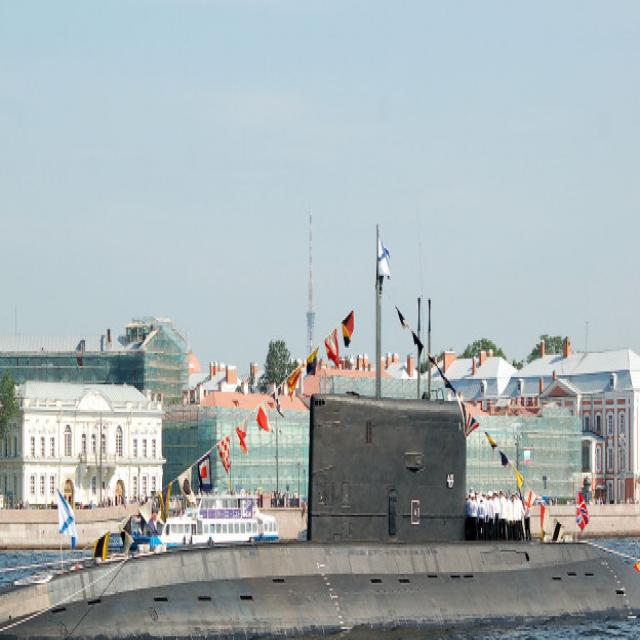submarine: (1, 242, 640, 640)
